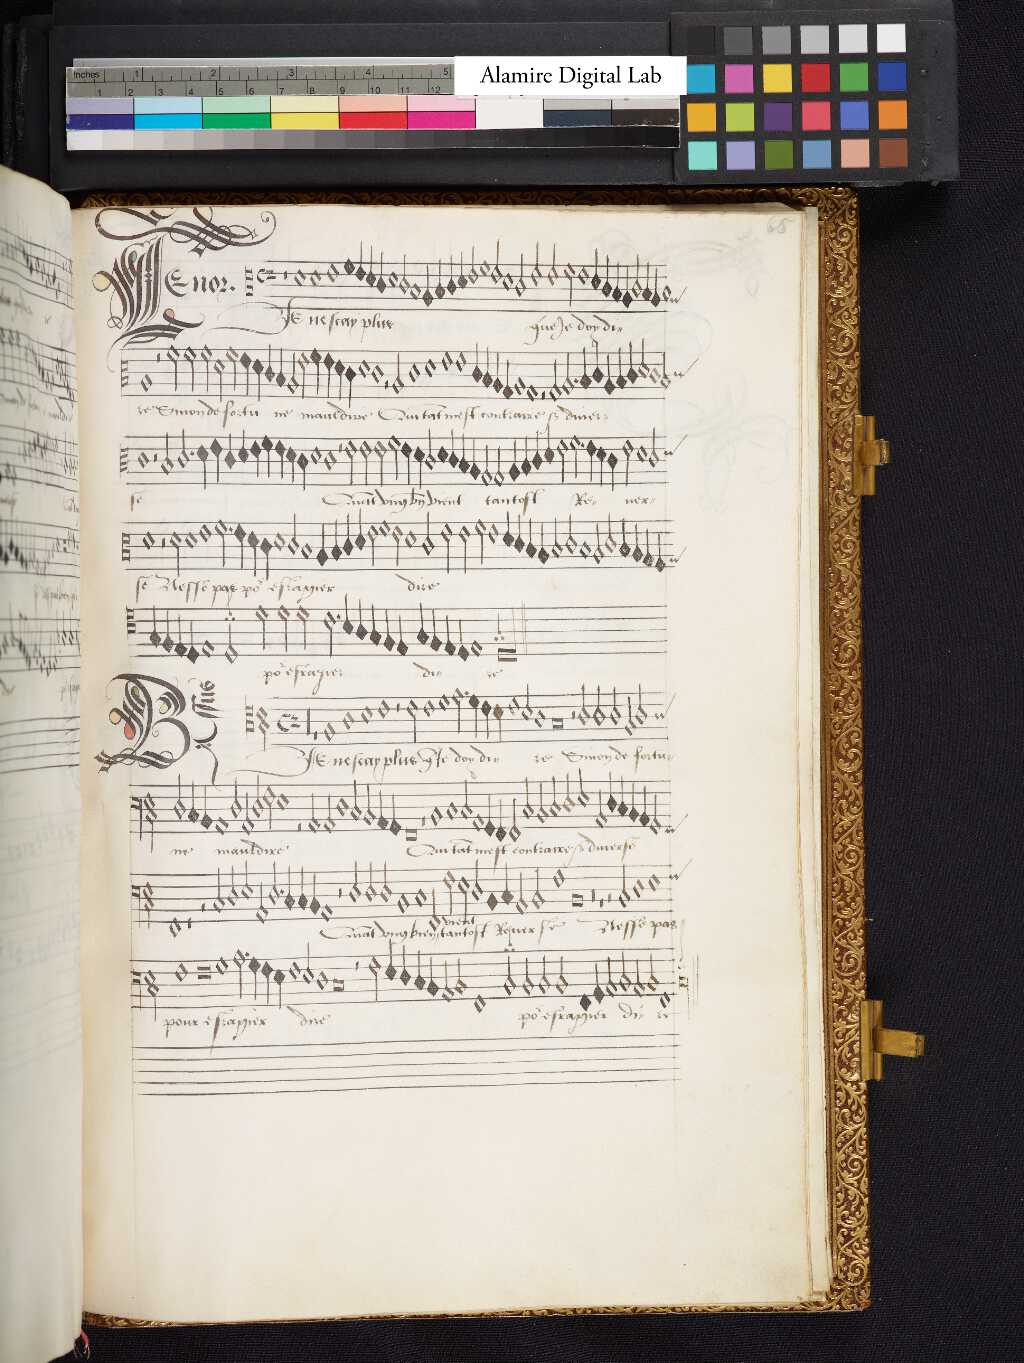c clef_7: (116, 347, 134, 404)
custos_7: (673, 345, 693, 386)
minim rest: (151, 342, 163, 400), (538, 345, 549, 407)
minim_10: (547, 349, 563, 406)
minim_4: (165, 335, 182, 393), (183, 336, 199, 392), (198, 335, 213, 391), (225, 336, 239, 394)
minim_5: (296, 340, 311, 402)
minim_6: (635, 330, 649, 381), (213, 350, 227, 399)
minim_8: (656, 341, 672, 396)
minim_9: (389, 342, 406, 399), (286, 342, 300, 397), (560, 342, 573, 398)
point: (569, 372, 580, 388)
semibreve rest: (382, 352, 392, 407)
semibreve_10: (524, 374, 540, 407)
semibreve_5: (439, 341, 455, 377), (454, 342, 470, 378)
semibreve_6: (422, 347, 440, 384), (357, 350, 373, 384)
semibreve_7: (370, 355, 387, 391), (406, 354, 422, 388), (649, 363, 662, 387)
semibreve_9: (137, 365, 155, 401), (512, 367, 528, 400)
semiminim_10: (501, 352, 511, 404)
semiminim_4: (310, 337, 323, 400)
semiminim_5: (322, 343, 335, 403), (241, 342, 253, 400)
semiminim_6: (252, 347, 265, 406), (333, 351, 346, 404)
semiminim_7: (589, 332, 605, 391), (624, 333, 639, 389), (344, 357, 358, 412), (470, 336, 484, 389), (264, 336, 276, 387)
semiminim_8: (614, 340, 628, 397), (578, 340, 592, 396), (275, 339, 288, 392), (482, 339, 494, 392)
semiminim_9: (602, 347, 616, 401), (490, 345, 503, 397)
